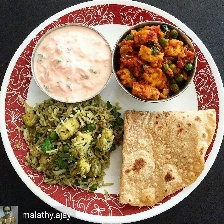sabzi: (19, 103, 118, 192)
